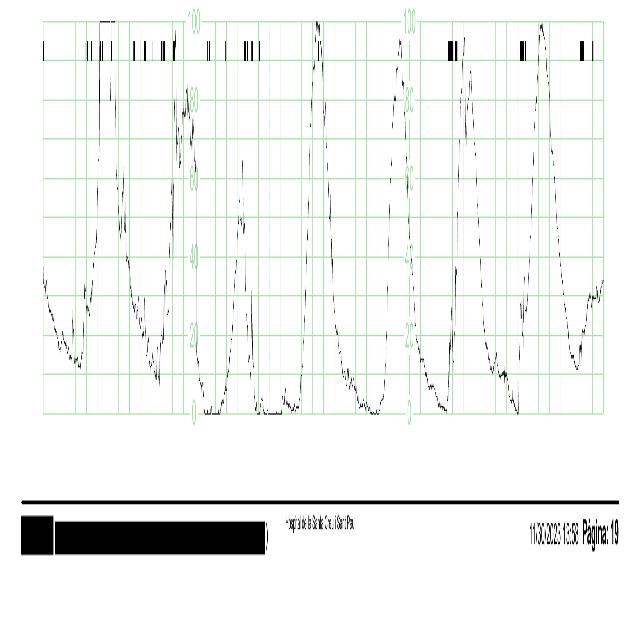contraction: (517, 23, 567, 409), (158, 34, 206, 368), (296, 23, 337, 409), (378, 37, 419, 411), (82, 21, 126, 359), (447, 50, 482, 400), (225, 164, 254, 398)
